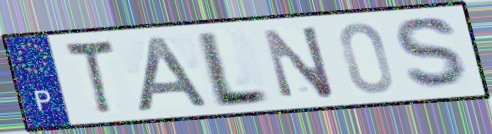0: (338, 21, 396, 97)
A: (134, 34, 215, 114)
L: (196, 28, 271, 110)
N: (259, 22, 339, 100)
S: (392, 14, 476, 93)
T: (61, 37, 118, 117)
